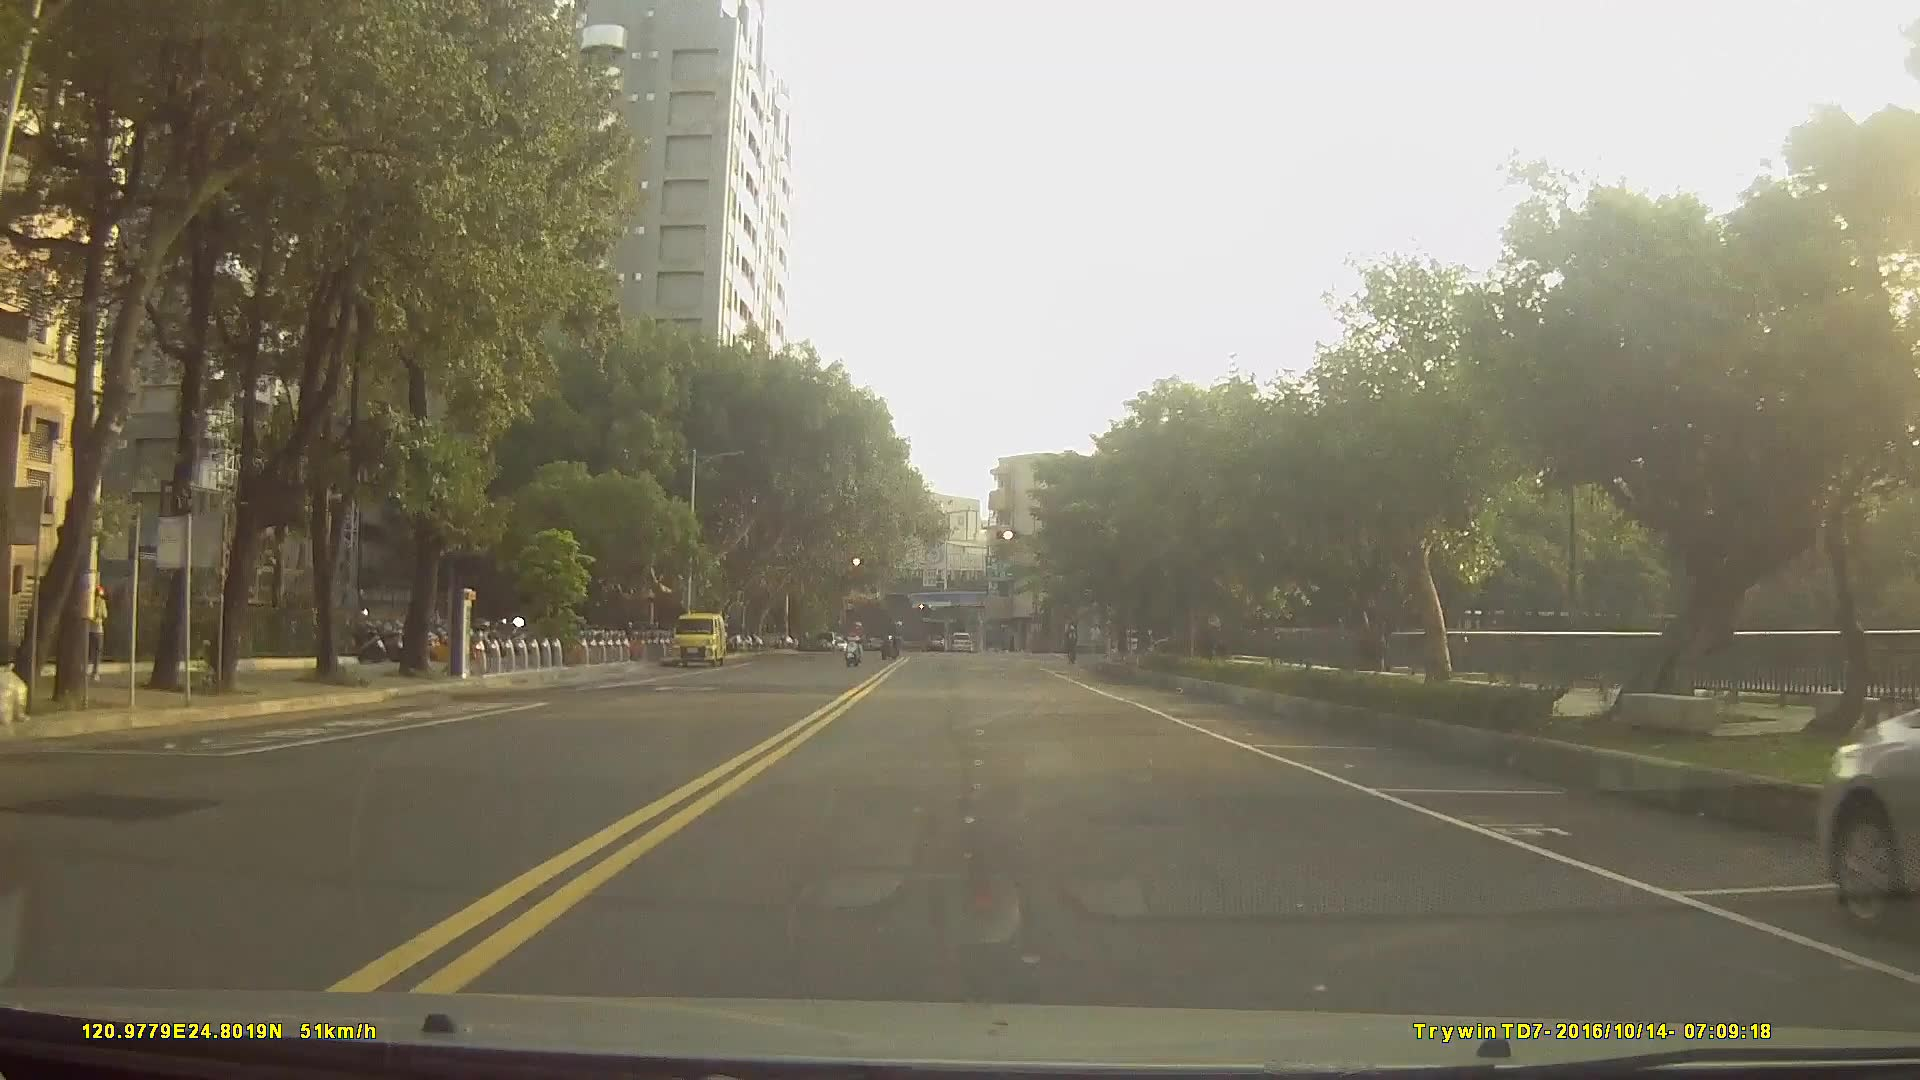pedestrian: (1086, 617, 1106, 659)
rider: (841, 618, 872, 669), (880, 617, 906, 662)
vehicle: (1819, 701, 1920, 936), (944, 629, 975, 653)
